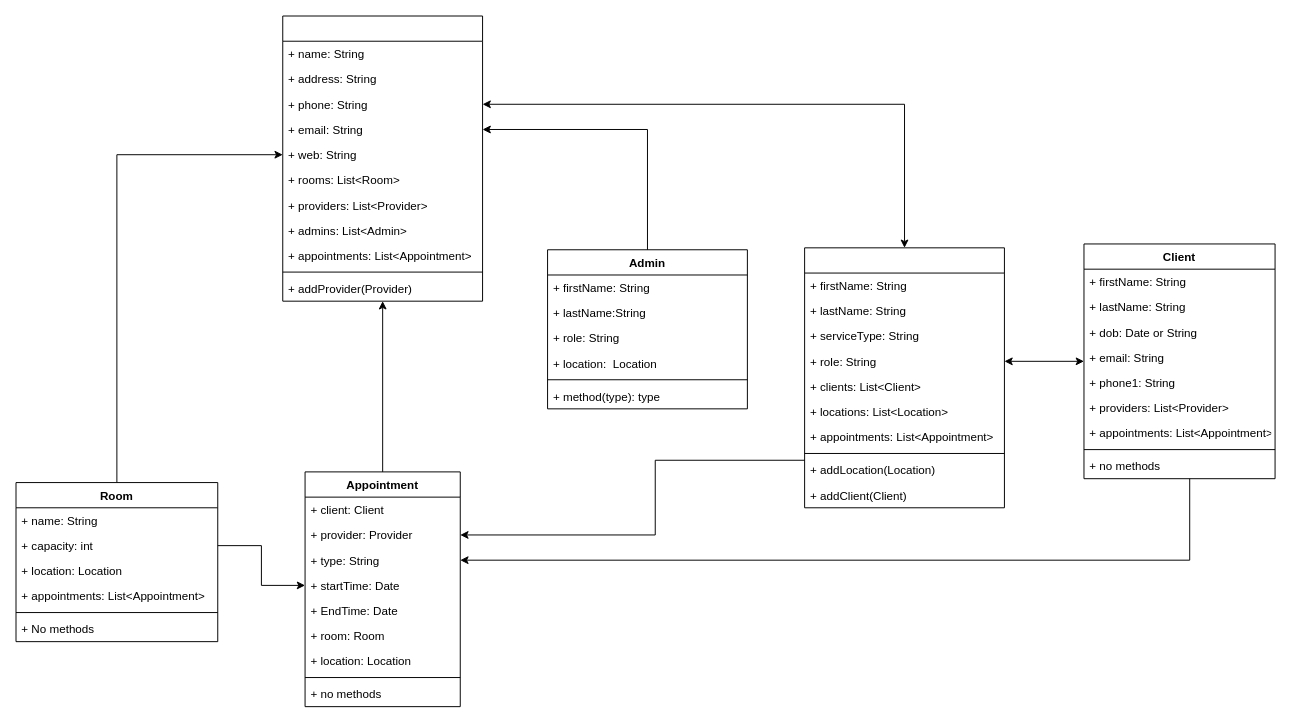
This 1291x723 diagram has some shape labels left out. Each missing label, with the box of its shape:
Location: (282, 15, 483, 301)
Provider: (804, 247, 1004, 508)
